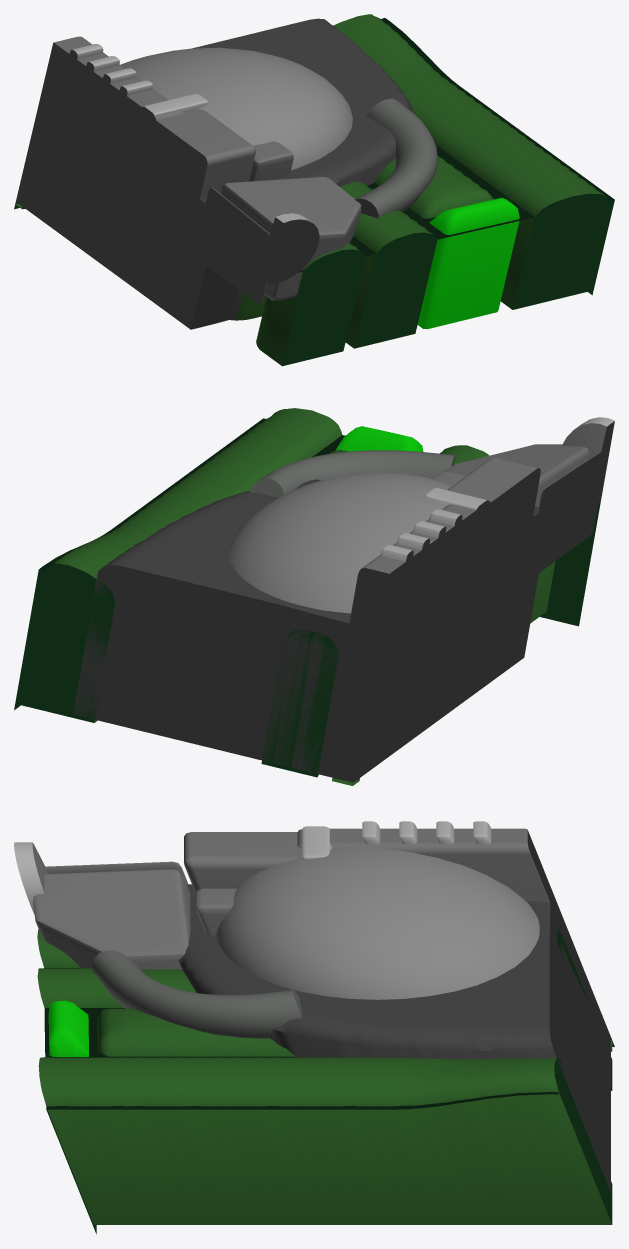
The model's file is green_shell_195.glb.
3 views of the same model, one above another, from view 1: azimuth 30°, elevation 25°; view 2: azimuth 150°, elevation 25°; view 3: azimuth 270°, elevation 25° (orthographic). The views are drawn at different scales.
Visible parts, largest first — view 1: green_shell_195; view 2: green_shell_195; view 3: green_shell_195.
Part boxes in pixels (<box>): green_shell_195: <box>14,14,614,366</box>; green_shell_195: <box>14,408,614,785</box>; green_shell_195: <box>14,821,614,1234</box>.
Size of the model in its own units: 24 by 13.45 by 32.46.
